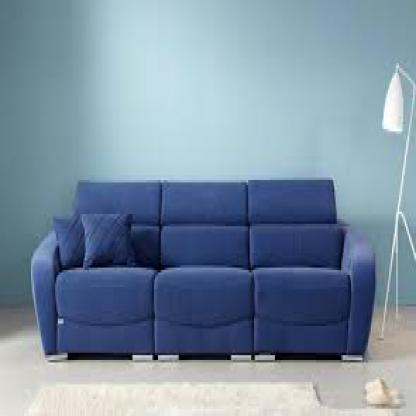sofa: (24, 170, 369, 370)
